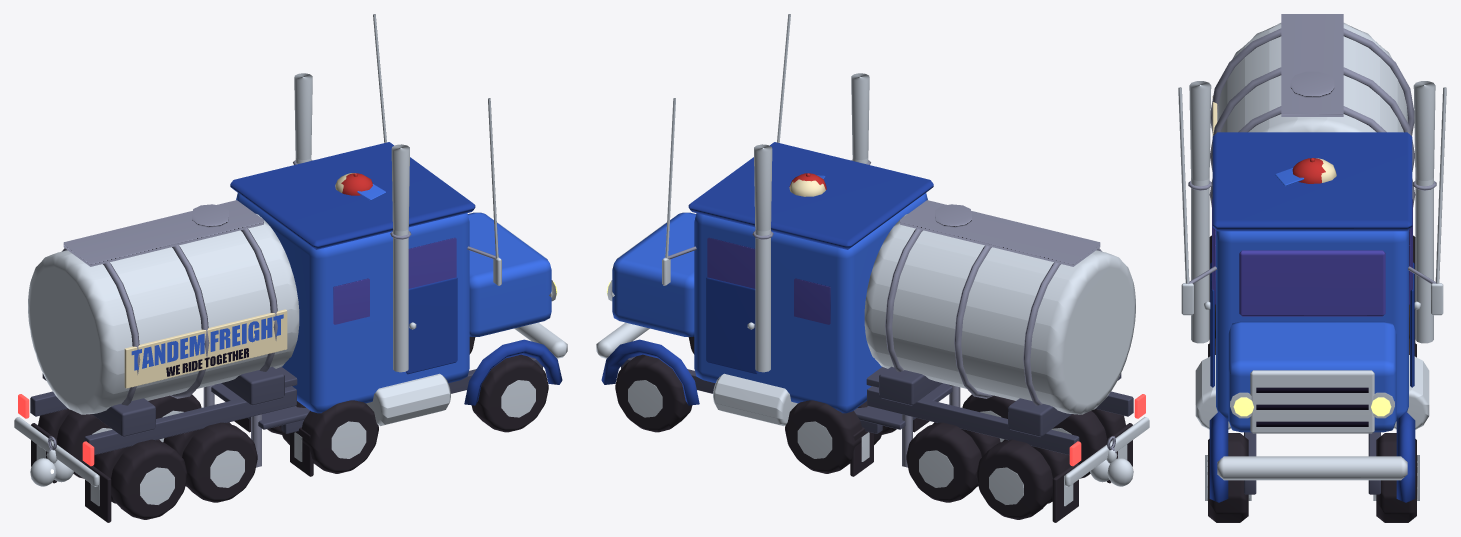
The model's file is semi_truck_b.glb.
3 renders of one model, left to right at view 1: azimuth 30°, elevation 25°; view 2: azimuth 150°, elevation 25°; view 3: azimuth 270°, elevation 25°, orthographic. The views are drawn at different scales.
Visible parts, largest first — view 1: Semi; view 2: Semi; view 3: Semi.
Boxes of the visible parts, left/top/right/bottom form: Semi: left=14, top=14, right=567, bottom=522; Semi: left=596, top=14, right=1149, bottom=522; Semi: left=1178, top=14, right=1446, bottom=522.
Bounding box in the file's own units: 4.25 × 2.89 × 1.72.
